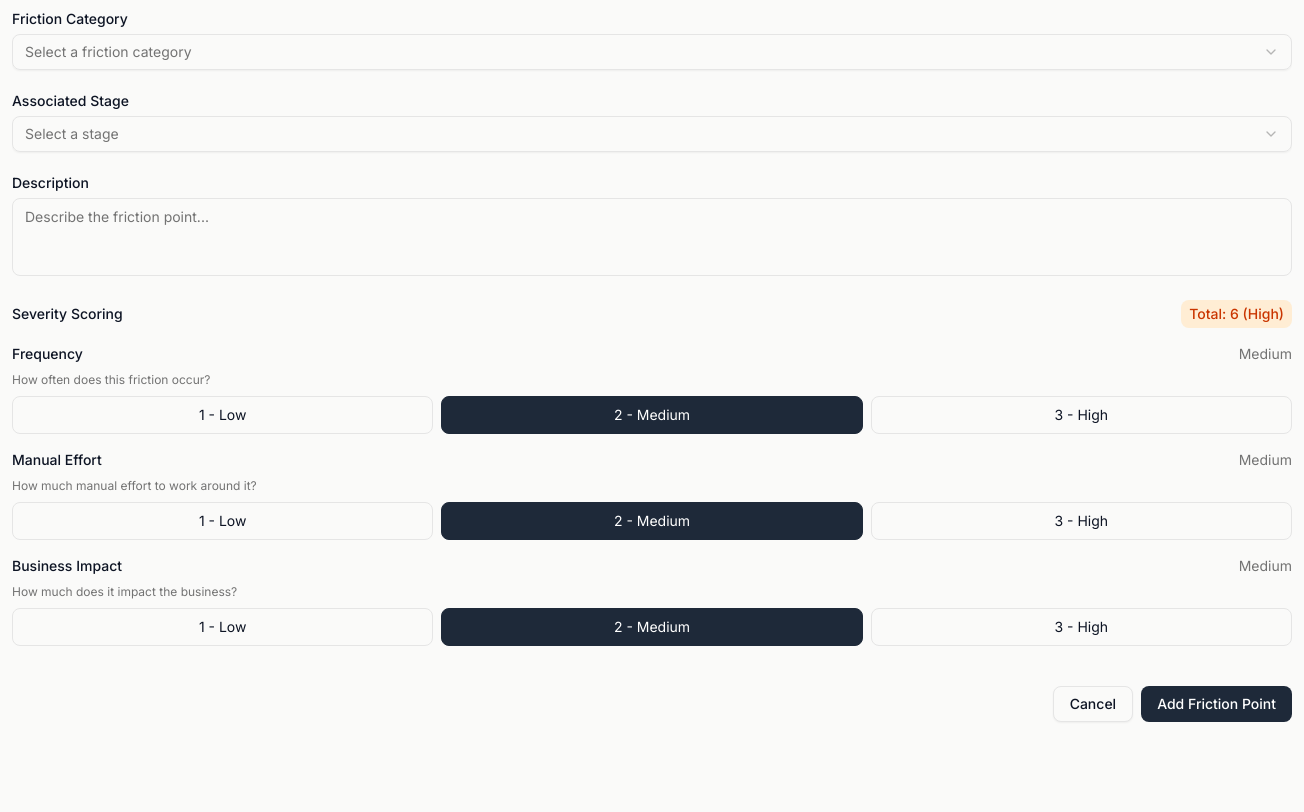
Scenario: FrictionForm › severity buttons are clickable
Note: Click the "3 - High" button for Frequency
Click the 1st button "3 - High".
click(1081, 415)  # box left=871, top=396, right=1292, bottom=434
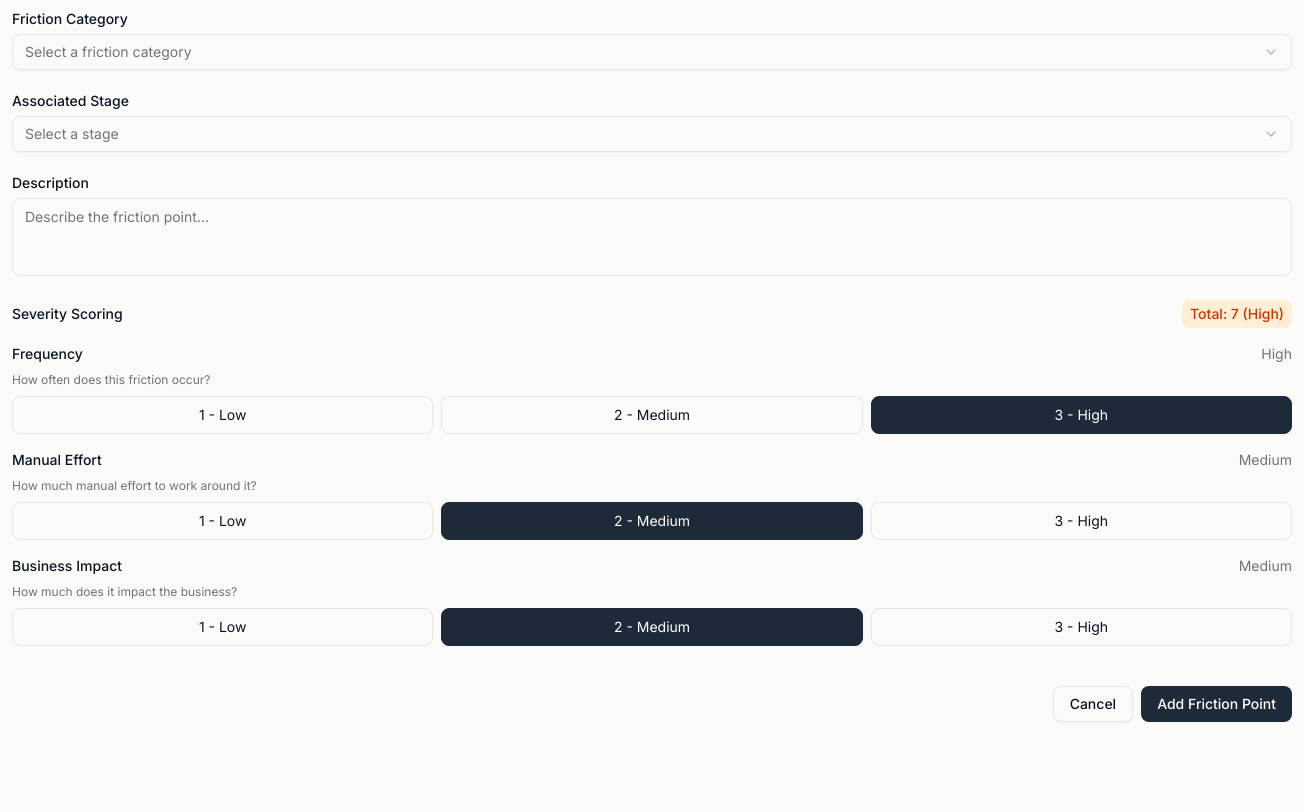
Expected: the text "Total: 7 (High)" is shown, left=1182, top=300, right=1292, bottom=328
